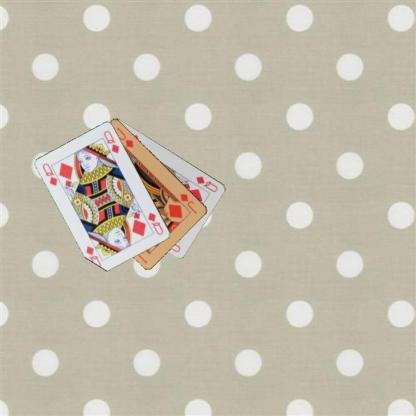Jd: (178, 191, 198, 215)
Qd: (40, 161, 63, 187), (194, 173, 220, 194), (146, 210, 164, 236)
